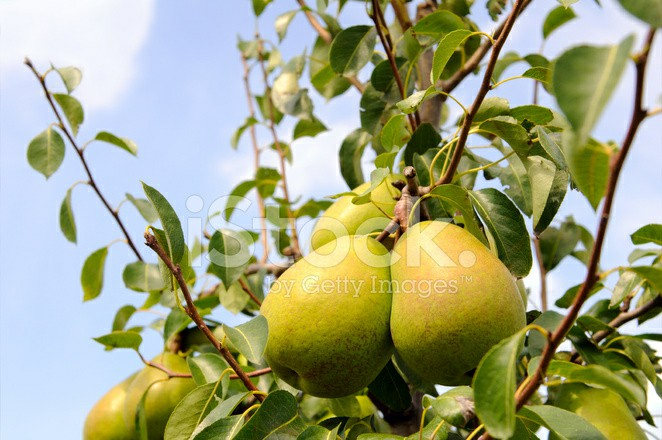pear: (256, 230, 393, 397), (388, 221, 525, 386), (307, 178, 405, 257), (131, 355, 206, 423), (81, 378, 147, 440)
